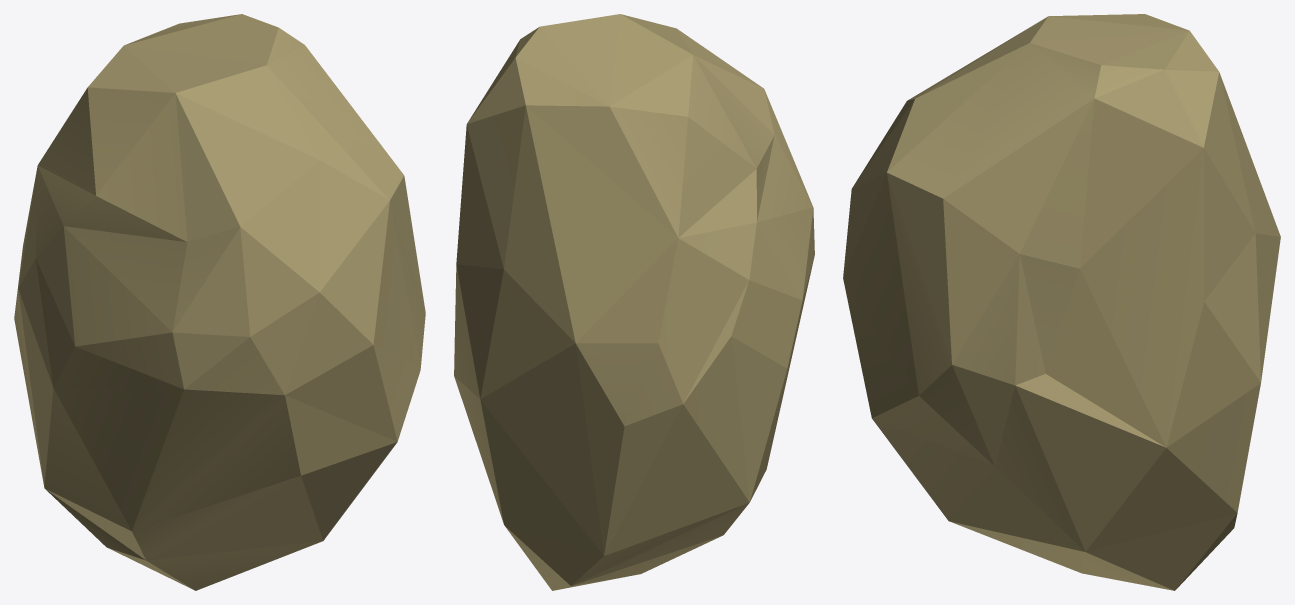
The model's file is SM_small_rock_09.fbx.
The picture shows the model from 3 angles, left to right: view 1: azimuth 30°, elevation 25°; view 2: azimuth 150°, elevation 25°; view 3: azimuth 270°, elevation 25°; orthographic projection. The views are drawn at different scales.
Visible parts, largest first — view 1: small_rock_09; view 2: small_rock_09; view 3: small_rock_09.
Part boxes in pixels (x1=…): small_rock_09: x1=14, y1=14, x2=425, y2=590; small_rock_09: x1=454, y1=14, x2=814, y2=590; small_rock_09: x1=843, y1=14, x2=1280, y2=590.
Bounding box in the file's own units: 63.04 × 103 × 73.67.
